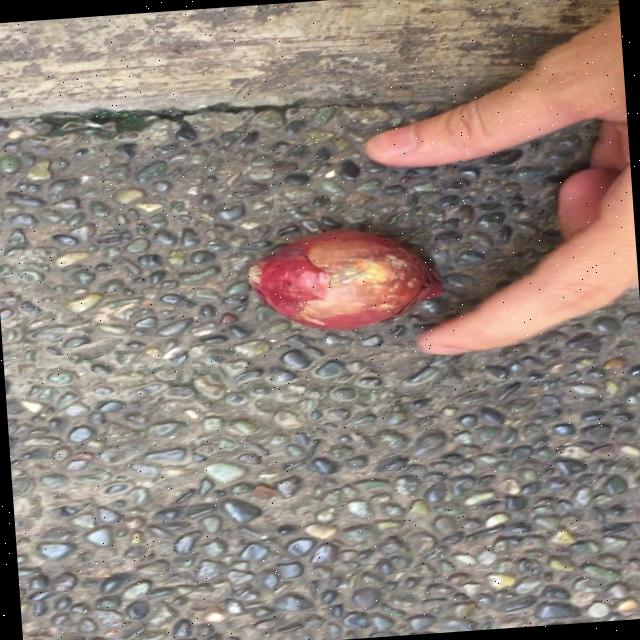Onion: (247, 229, 442, 328)
